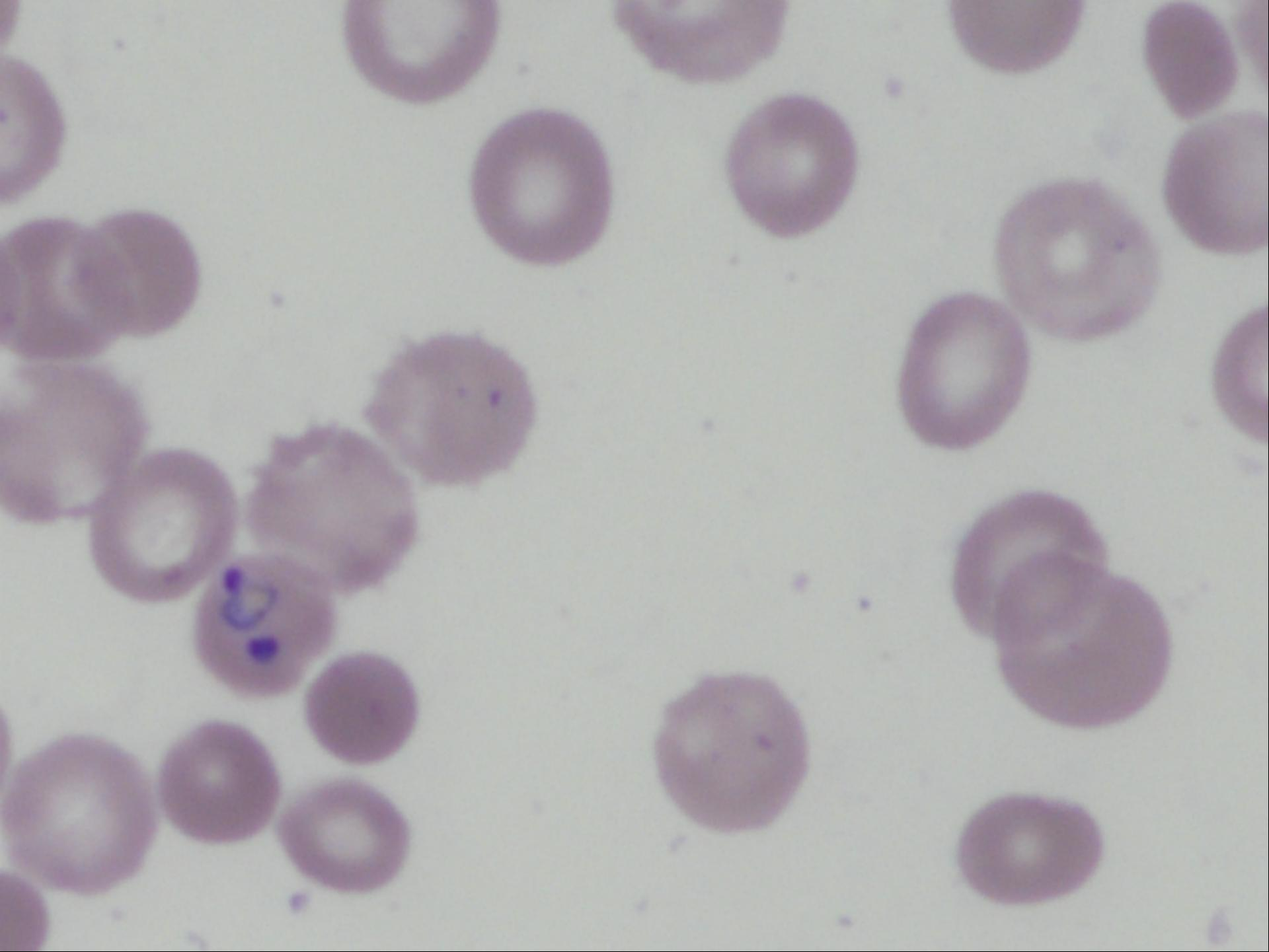Infected: (187, 558, 339, 696)
Uninfected: (998, 558, 1169, 730), (996, 178, 1160, 348), (245, 430, 410, 592), (368, 338, 536, 485), (657, 672, 808, 834), (471, 109, 620, 270), (947, 492, 1106, 642), (2, 734, 151, 890), (0, 360, 138, 516), (90, 454, 238, 599), (899, 291, 1030, 454), (725, 91, 858, 244), (2, 219, 138, 364), (956, 787, 1107, 901), (148, 723, 283, 846), (608, 0, 790, 90), (339, 0, 496, 104), (68, 208, 194, 336), (1163, 110, 1269, 250), (275, 789, 410, 895), (302, 655, 419, 770), (1148, 0, 1237, 123), (946, 0, 1088, 73)
